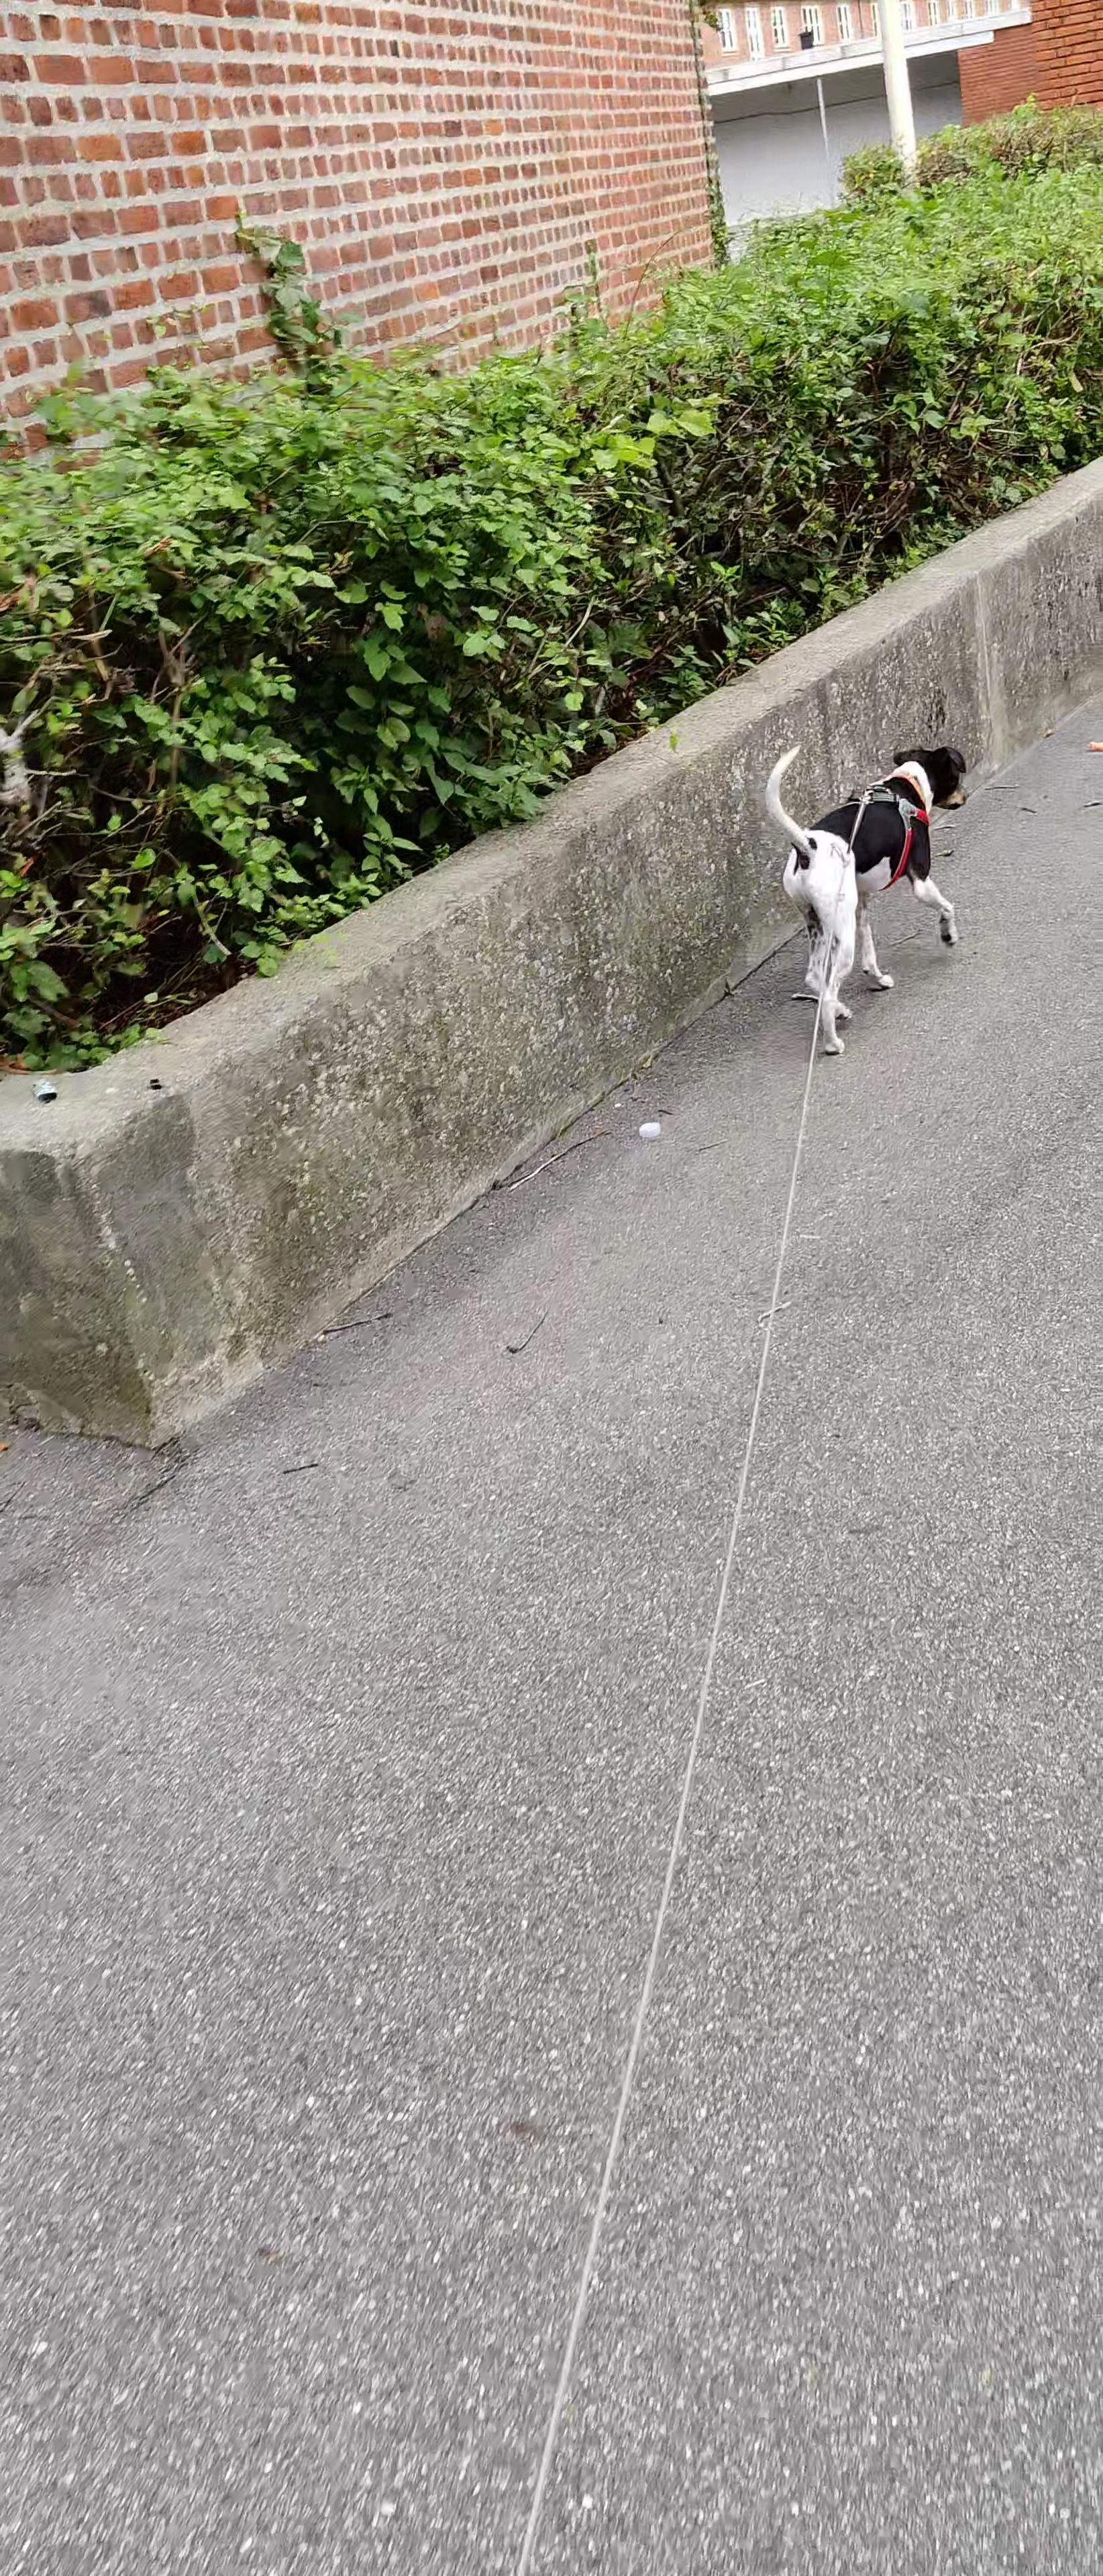Dog: (748, 736, 980, 1073)
